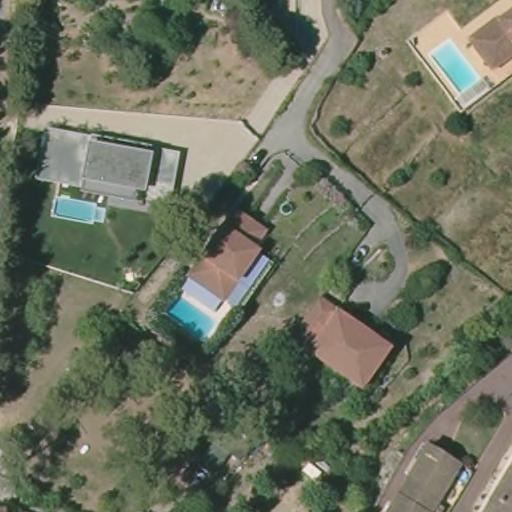pool: (420, 38, 488, 98), (163, 293, 221, 338), (43, 191, 107, 226)
